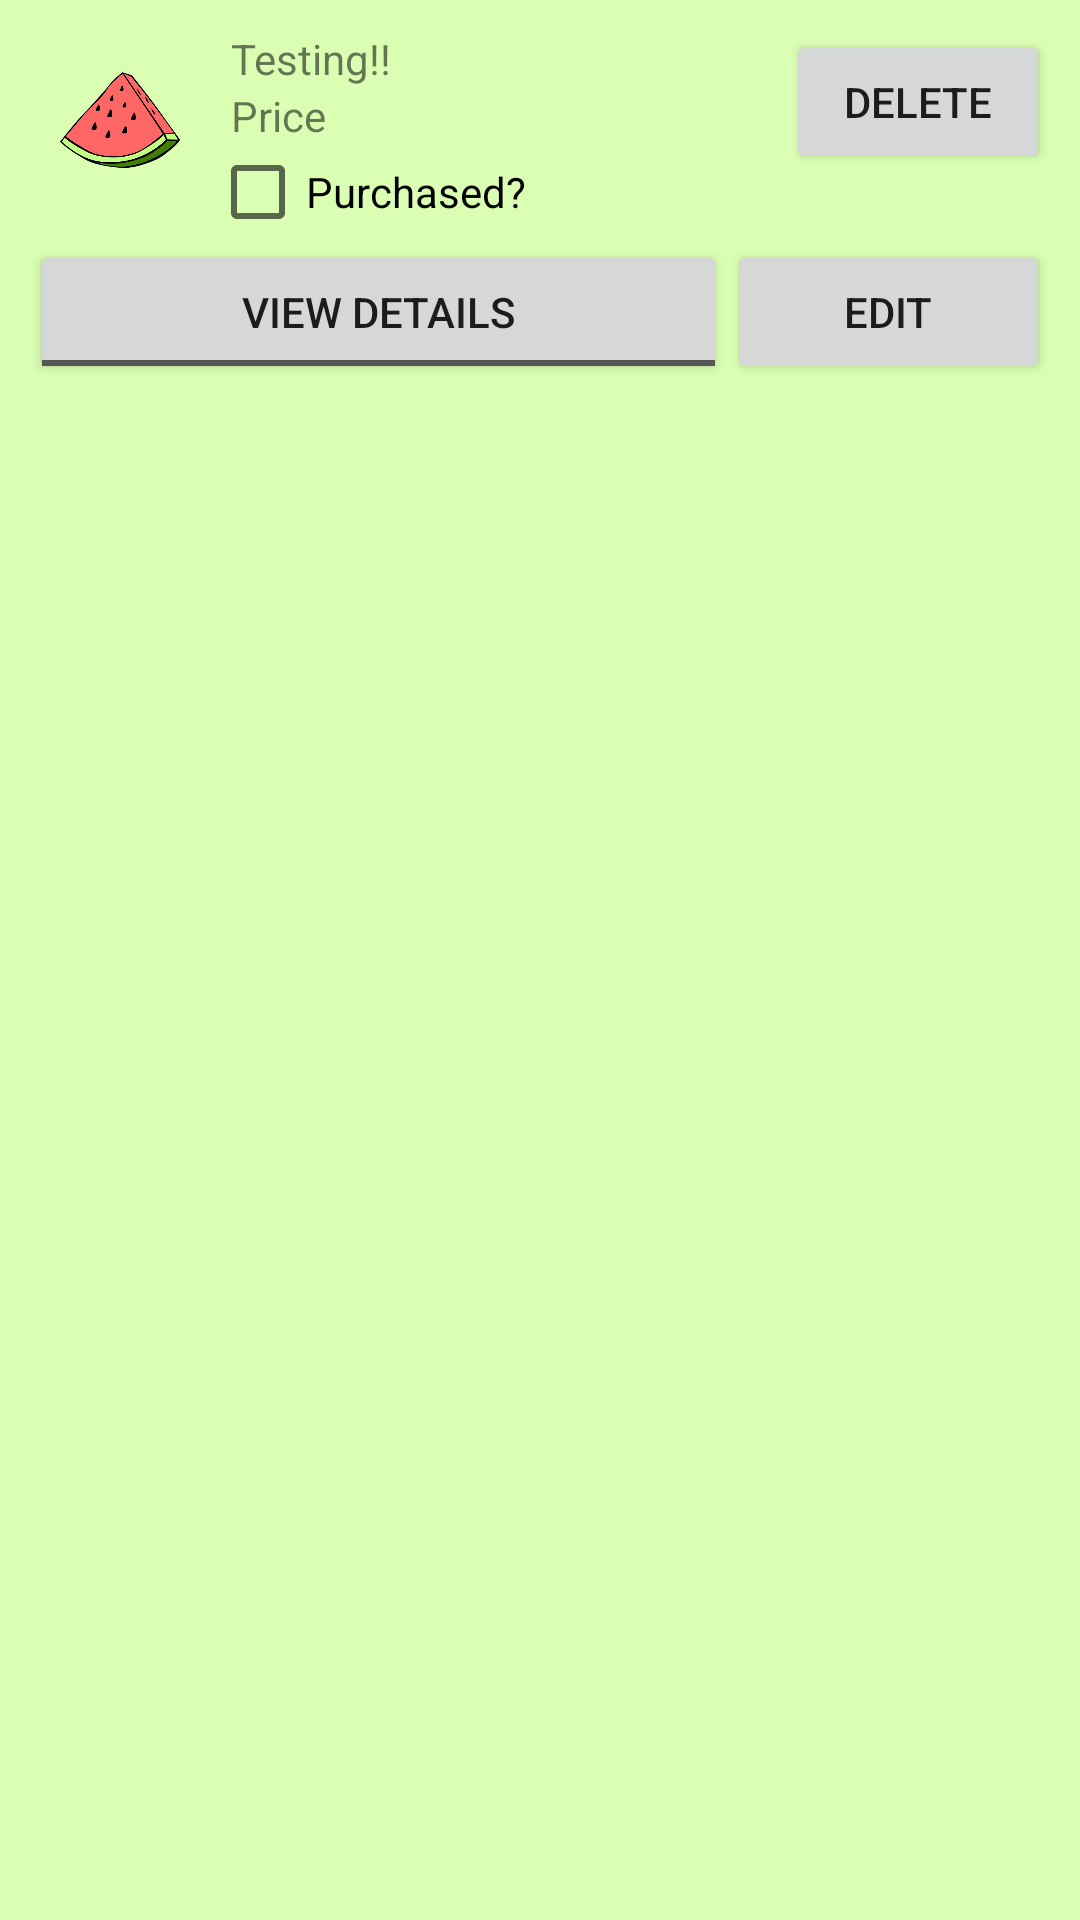

Where icons sit on this 1080*1920 app screen, as Rect(x1, y1, x2, y2):
watermelon: Rect(60, 72, 180, 168)
